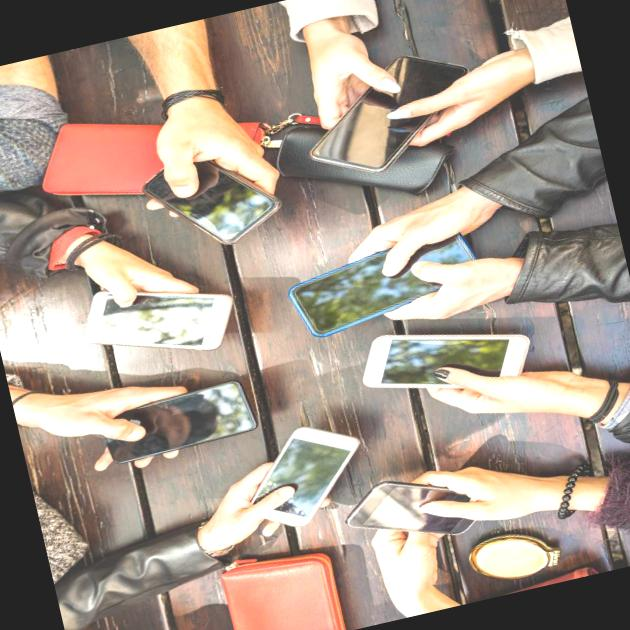phone: (275, 214, 520, 350), (358, 304, 548, 445), (71, 358, 289, 480), (83, 264, 242, 378)
